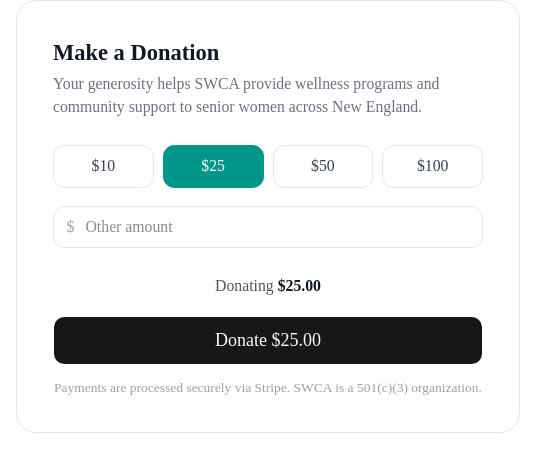
Scenario: DonationForm › custom amount overrides preset selection
This screenshot has width=537, height=450.
Step 1. Type "75" into the number field with placeholder "Other amount" → (268, 227), box [53, 206, 483, 248]
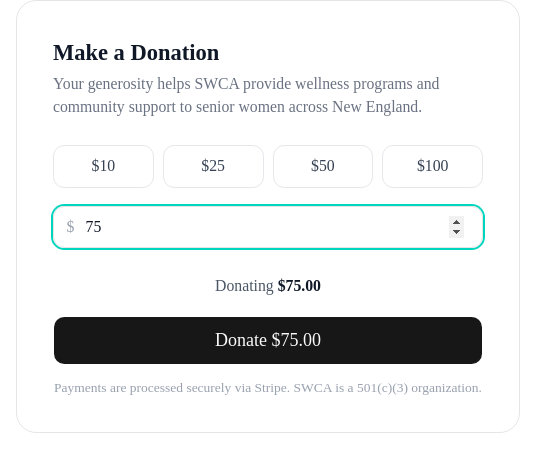
Result: the button "Donate $75.00" is shown at [53, 316, 483, 365]
